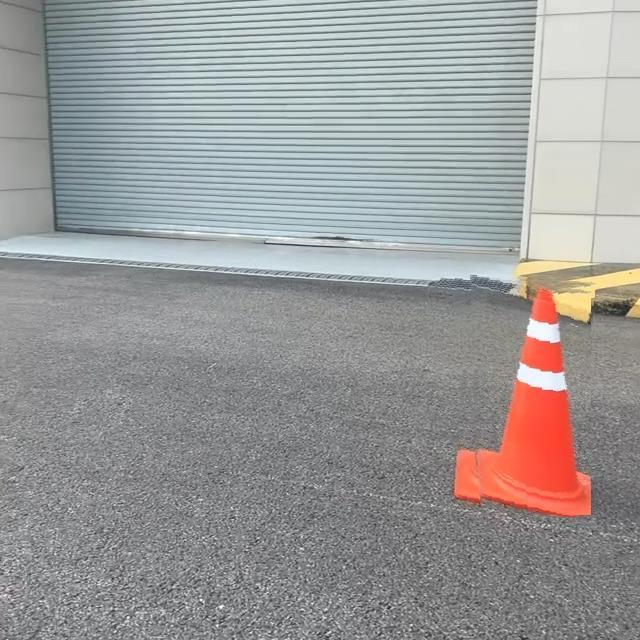fallen_object: (403, 232, 632, 556)
